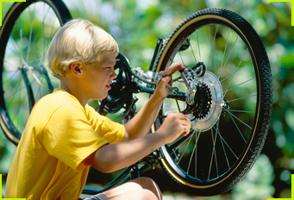person: (5, 17, 190, 199)
